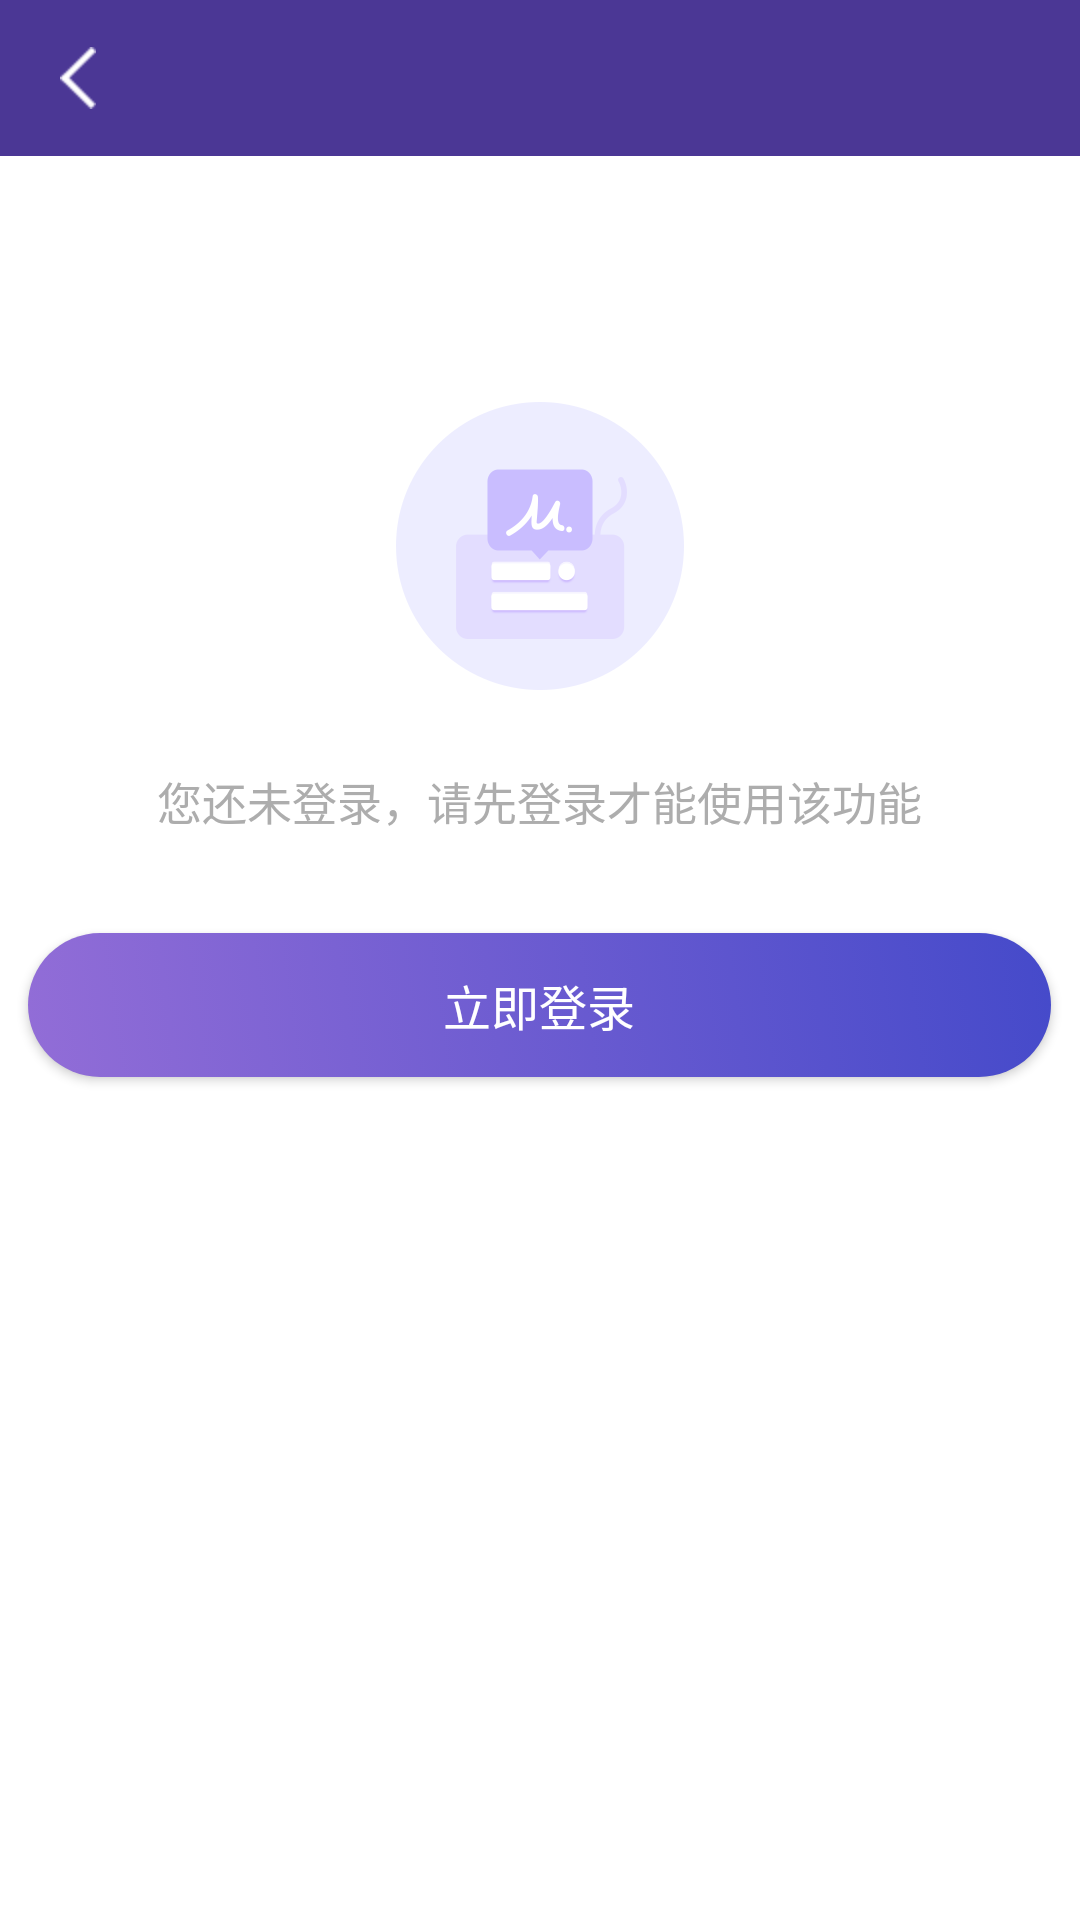

Point at icon controls on the screen. Image size 1080 x 1920, points as point (x, y).
title back: point (78, 78)
